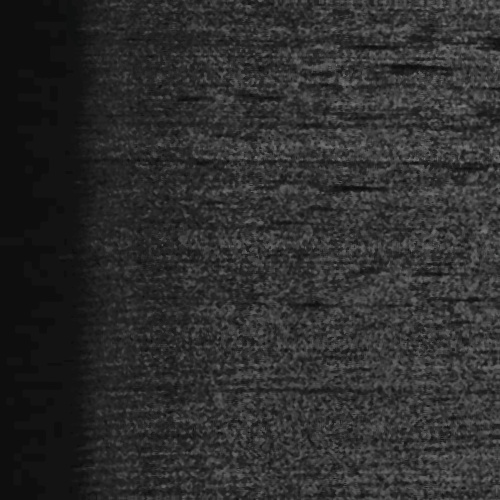object: (303, 57, 386, 66), (416, 38, 479, 45)
shadow: (345, 57, 421, 66), (447, 38, 500, 45)
